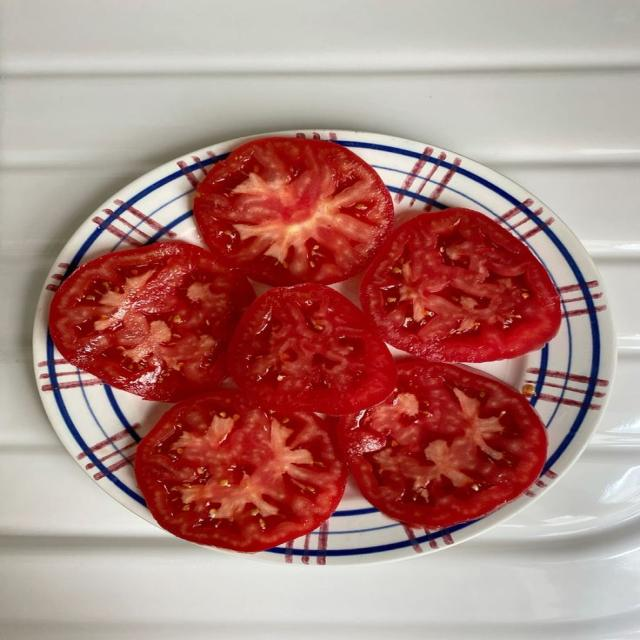sliced tomatoe: (340, 360, 546, 528), (135, 390, 346, 551), (49, 243, 254, 401), (361, 209, 560, 362), (194, 138, 393, 285), (229, 284, 395, 414)
